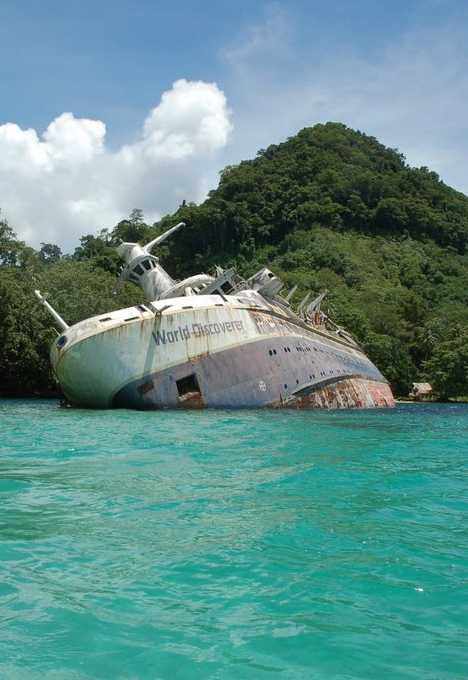rust: (298, 389, 392, 408), (179, 391, 205, 408)
